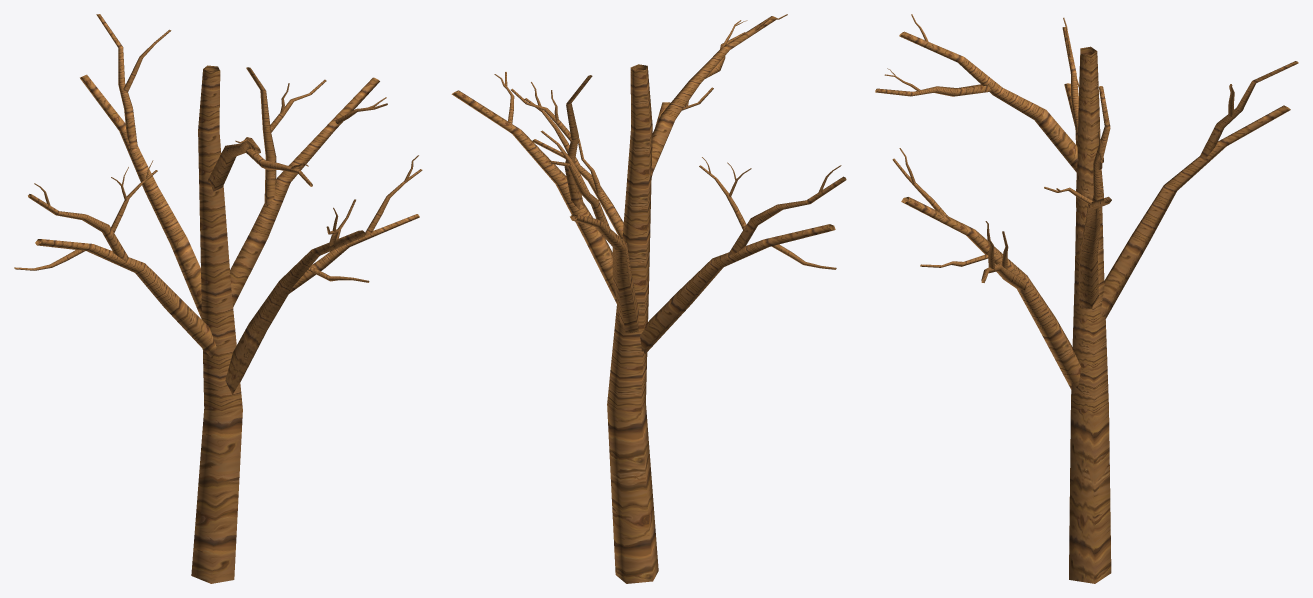
File: Tree_Textured.fbx
3 renders of one model, left to right at view 1: azimuth 30°, elevation 25°; view 2: azimuth 150°, elevation 25°; view 3: azimuth 270°, elevation 25°, orthographic. The views are drawn at different scales.
Parts seen in each view (by area): view 1: extrudedSurface35; view 2: extrudedSurface35; view 3: extrudedSurface35.
Boxes of the visible parts, box(x1,y1,x2,y2) form: extrudedSurface35: box(14, 14, 422, 583); extrudedSurface35: box(451, 14, 846, 583); extrudedSurface35: box(875, 14, 1298, 583).
Size of the model in its own units: 10.53 by 13.82 by 10.04.
1 material, 1 textured.
